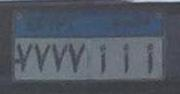7: (69, 41, 85, 74), (14, 44, 33, 70), (51, 42, 67, 72), (34, 43, 50, 73)
alif: (141, 42, 157, 76), (119, 39, 132, 73), (97, 43, 110, 76)
